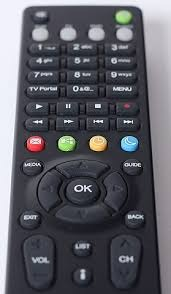remote control: (18, 5, 152, 290)
